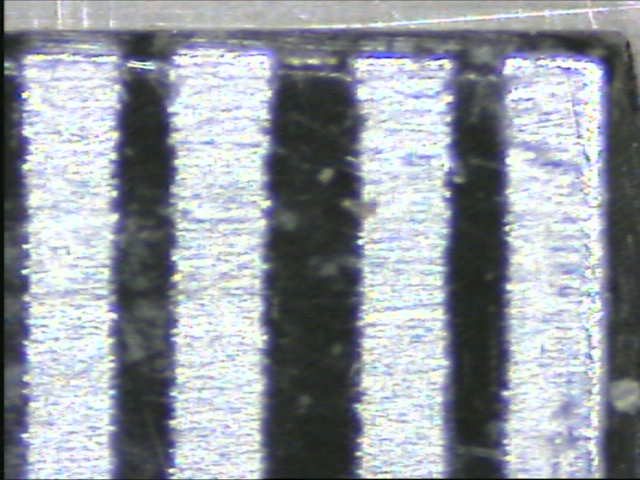line: (259, 39, 370, 479), (105, 43, 181, 478), (440, 35, 514, 479)
